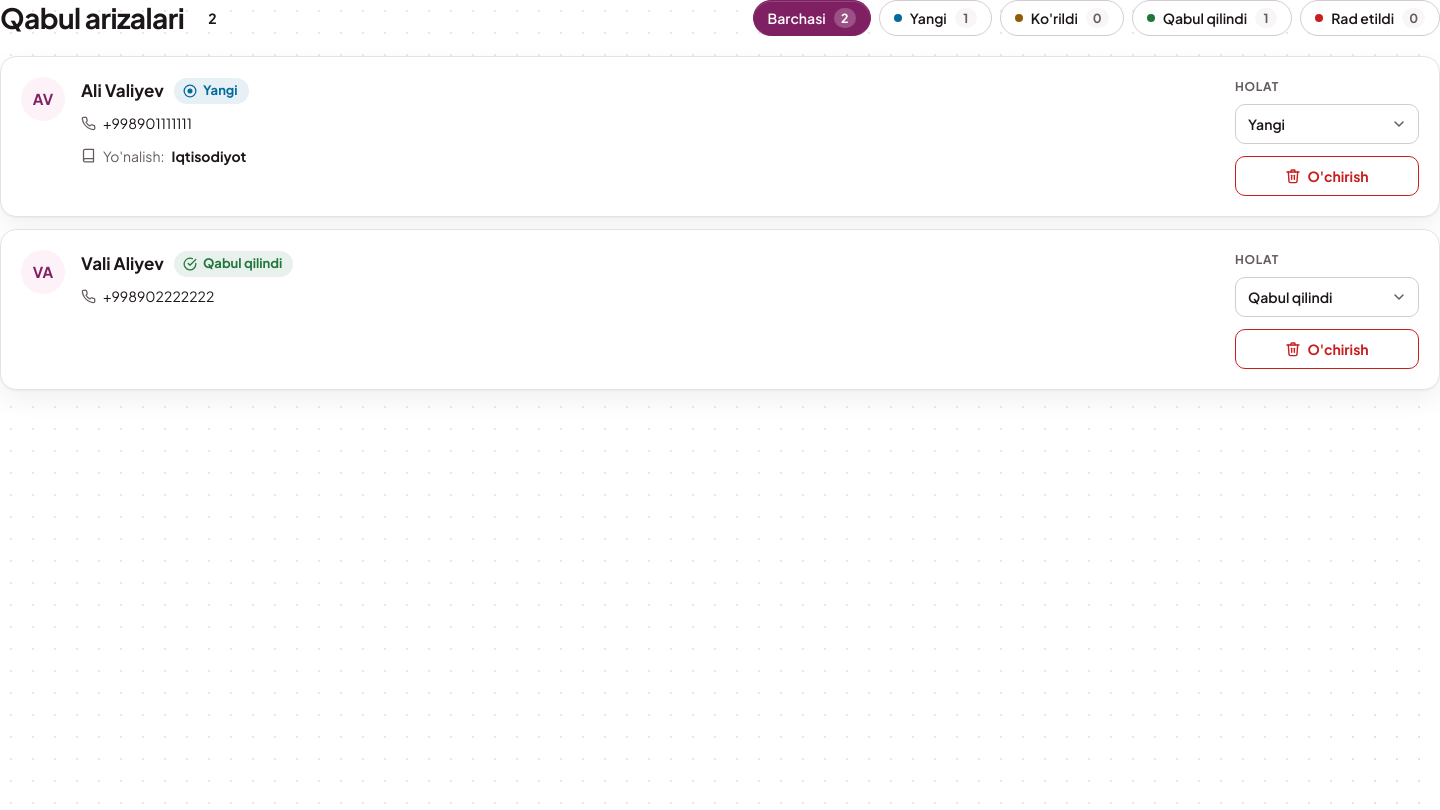
ApplicationsAdmin › o'chirish: dialog orqali tasdiq
Expected: the text "Ali Valiyev" is shown, left=81, top=77, right=164, bottom=104
Step 1. Click the button "O'chirish" in the row of "Iqtisodiyot" → (1327, 176), box left=1235, top=156, right=1419, bottom=196
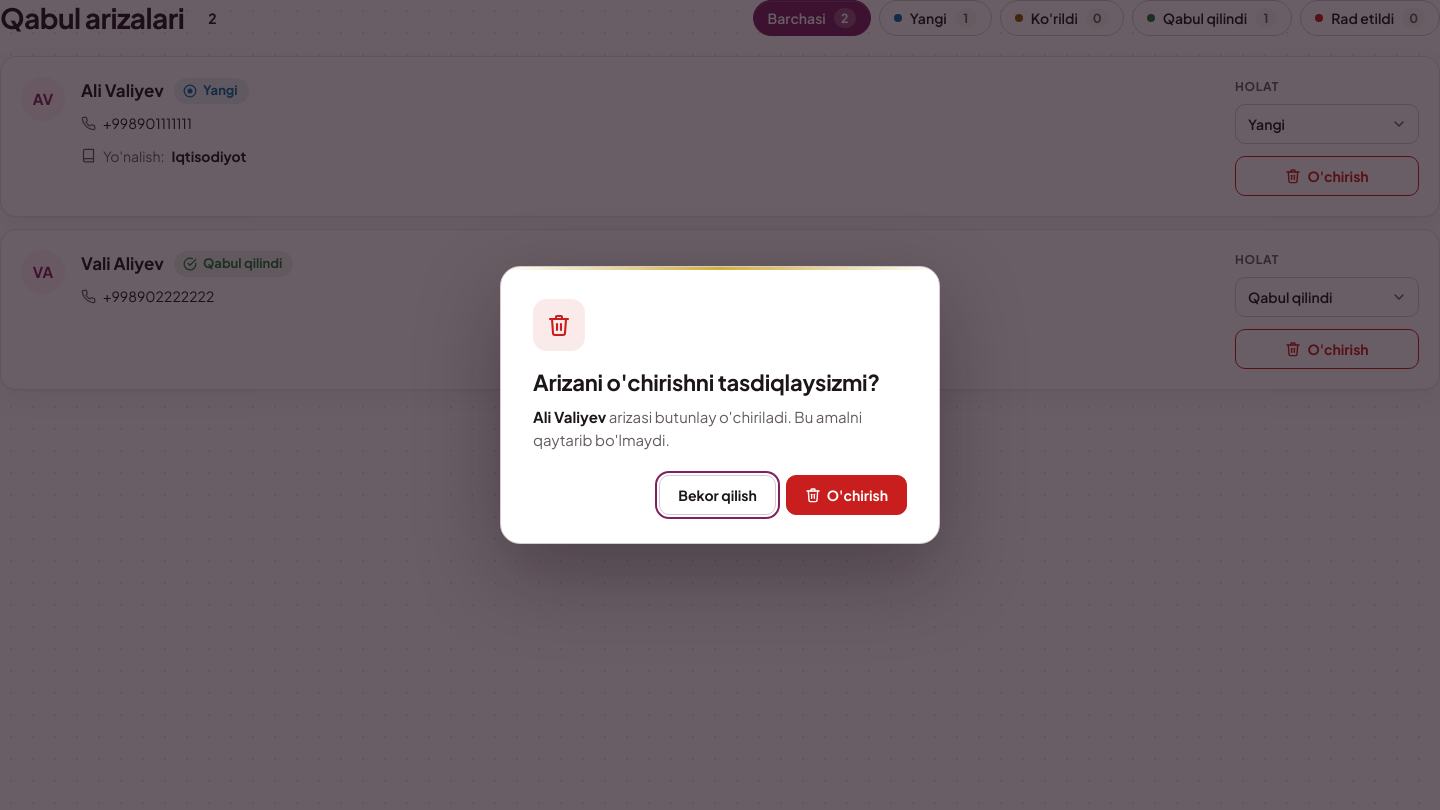
Expected: the dialog "Arizani o'chirishni tasdiqlaysizmi?" shows "Ali Valiyev arizasi butunlay o'chiriladi. Bu amalni qaytarib bo'lmaydi.", left=500, top=266, right=940, bottom=544
Step 2. Click the button "O'chirish" → (846, 495), box left=786, top=475, right=907, bottom=515
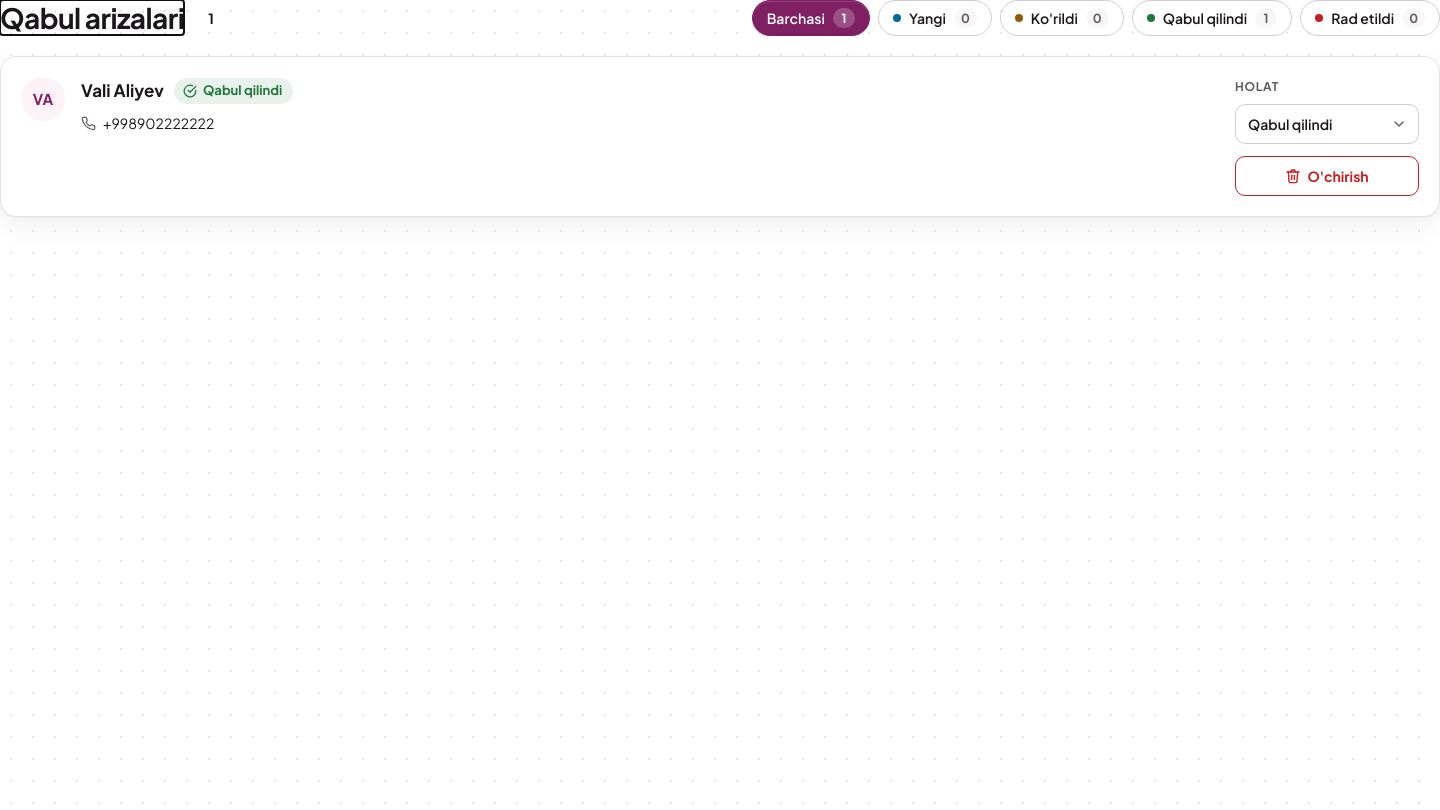
Expected: the dialog is gone
Expected: the text "Ali Valiyev" is gone
